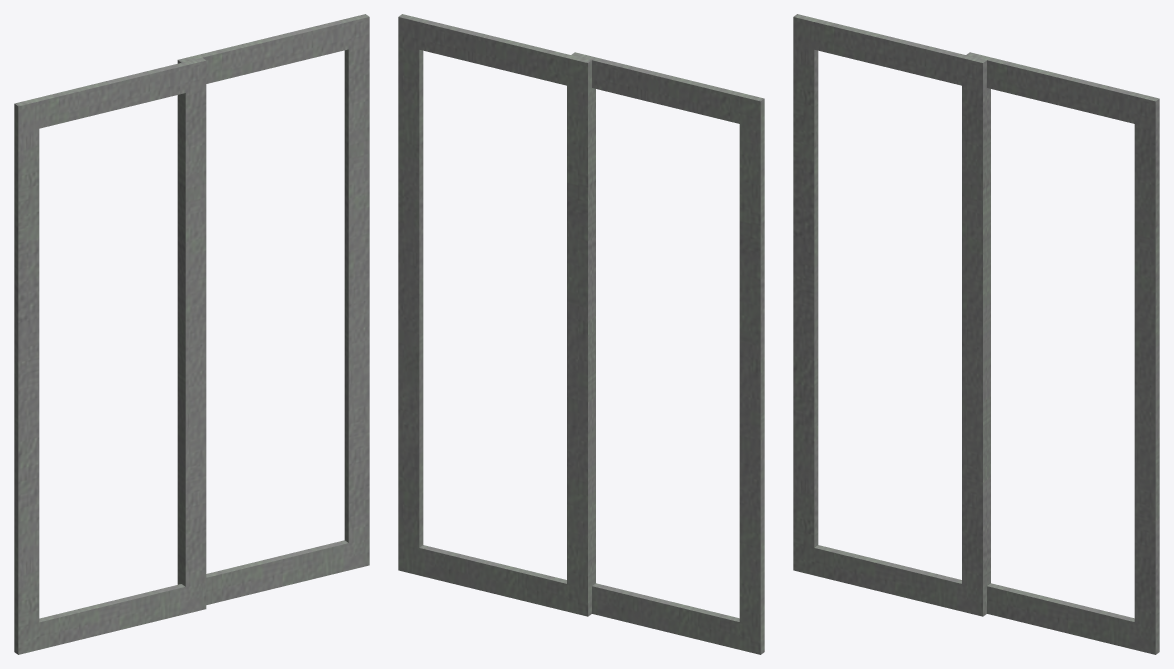
The model's file is VBB.obj.
The picture shows the model from 3 angles, left to right: view 1: azimuth 30°, elevation 25°; view 2: azimuth 150°, elevation 25°; view 3: azimuth 330°, elevation 25°; orthographic projection.
Parts seen in each view (by area): view 1: polySurface2; view 2: polySurface2; view 3: polySurface2.
Part boxes in pixels (x1,y1,x2,y2): polySurface2: [14, 14, 369, 654]; polySurface2: [398, 14, 764, 654]; polySurface2: [793, 14, 1159, 654].
Size of the model in its own units: 1.32 by 1.95 by 0.0508.
Materials: 1 (1 with a texture image).
